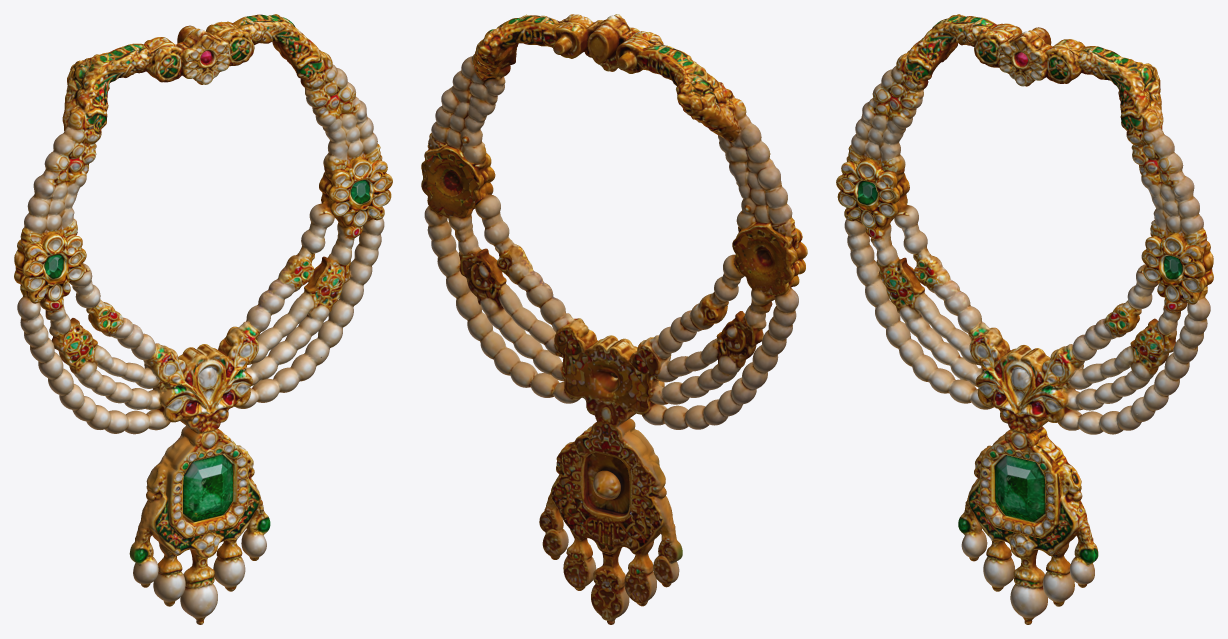
The model's file is jewelry-necklace-preview.glb.
The picture shows the model from 3 angles, left to right: view 1: azimuth 30°, elevation 25°; view 2: azimuth 150°, elevation 25°; view 3: azimuth 330°, elevation 25°; orthographic projection. The views are drawn at different scales.
Parts seen in each view (by area): view 1: tripo_node_1c3f8d5a-fe2e-41d3-a377-a933480b1230; view 2: tripo_node_1c3f8d5a-fe2e-41d3-a377-a933480b1230; view 3: tripo_node_1c3f8d5a-fe2e-41d3-a377-a933480b1230.
Boxes of the visible parts, x1=… form: tripo_node_1c3f8d5a-fe2e-41d3-a377-a933480b1230: x1=14, y1=14, x2=392, y2=624; tripo_node_1c3f8d5a-fe2e-41d3-a377-a933480b1230: x1=421, y1=14, x2=807, y2=624; tripo_node_1c3f8d5a-fe2e-41d3-a377-a933480b1230: x1=836, y1=14, x2=1213, y2=624.
Bounding box in the file's own units: 0.6501 × 1 × 0.1284.
Materials: 1 (1 with a texture image).
